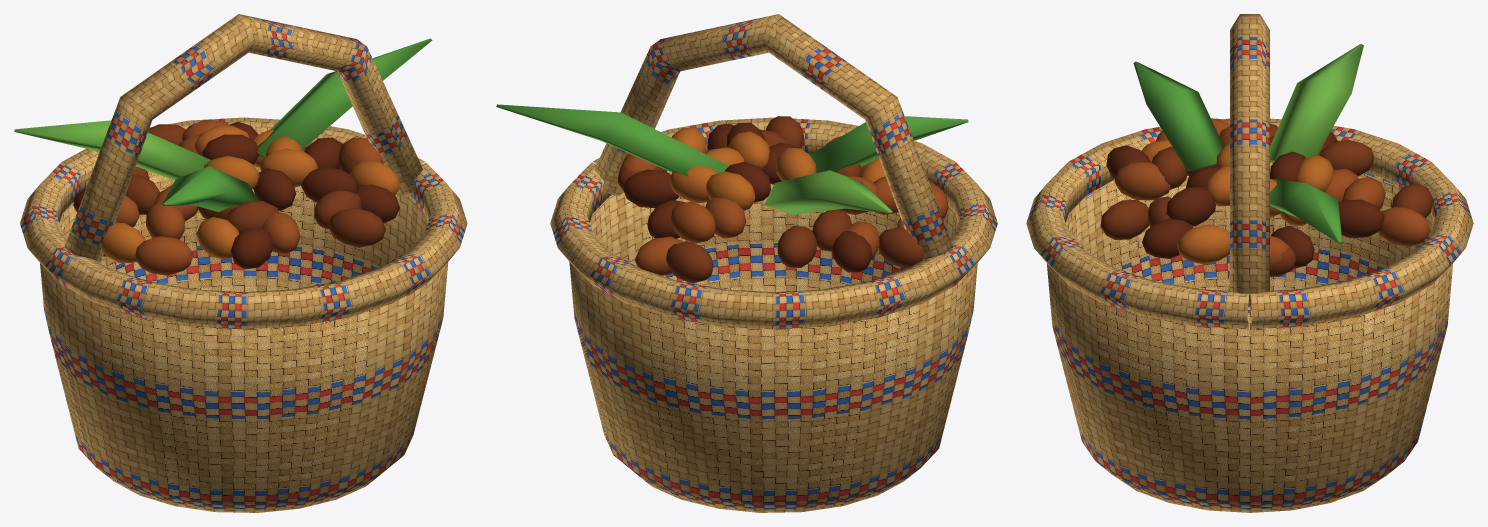
Rendered from basket-dates.glb.
3 renders of one model, left to right at view 1: azimuth 30°, elevation 25°; view 2: azimuth 150°, elevation 25°; view 3: azimuth 270°, elevation 25°, orthographic.
Parts seen in each view (by area): view 1: basket.weave, basket.dates, basket.leaves; view 2: basket.weave, basket.dates, basket.leaves; view 3: basket.weave, basket.dates, basket.leaves.
Part boxes in pixels (x1,y1,x2,y2): basket.weave: [20, 14, 467, 512]; basket.dates: [73, 119, 399, 275]; basket.leaves: [14, 38, 432, 211]; basket.weave: [550, 14, 997, 512]; basket.dates: [618, 116, 948, 283]; basket.leaves: [496, 104, 968, 214]; basket.weave: [1026, 14, 1473, 512]; basket.dates: [1100, 118, 1433, 276]; basket.leaves: [1133, 44, 1363, 243].
Bounding box in the file's own units: 1.18 × 1.15 × 1.08.
3 materials, 1 textured.
